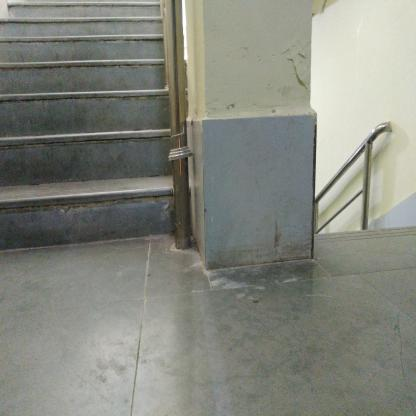stairs: (1, 1, 160, 256)
